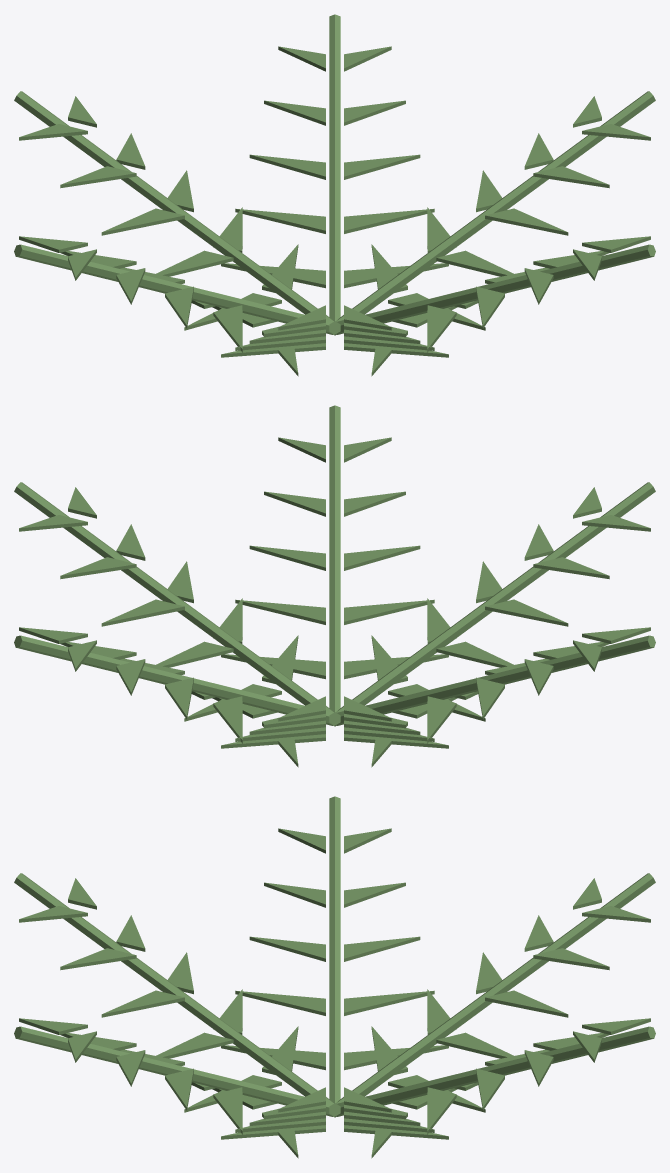
The model's file is fern.fbx.
The picture shows the model from 3 angles, top to bottom: view 1: azimuth 30°, elevation 25°; view 2: azimuth 150°, elevation 25°; view 3: azimuth 270°, elevation 25°; orthographic projection.
Visible parts, largest first — view 1: fern; view 2: fern; view 3: fern.
Part boxes in pixels (box(x1,y1,x2,y2)): fern: box(14, 14, 655, 376); fern: box(14, 405, 655, 767); fern: box(14, 796, 655, 1158).
Bounding box in the file's own units: 98.76 × 24.63 × 85.98.
